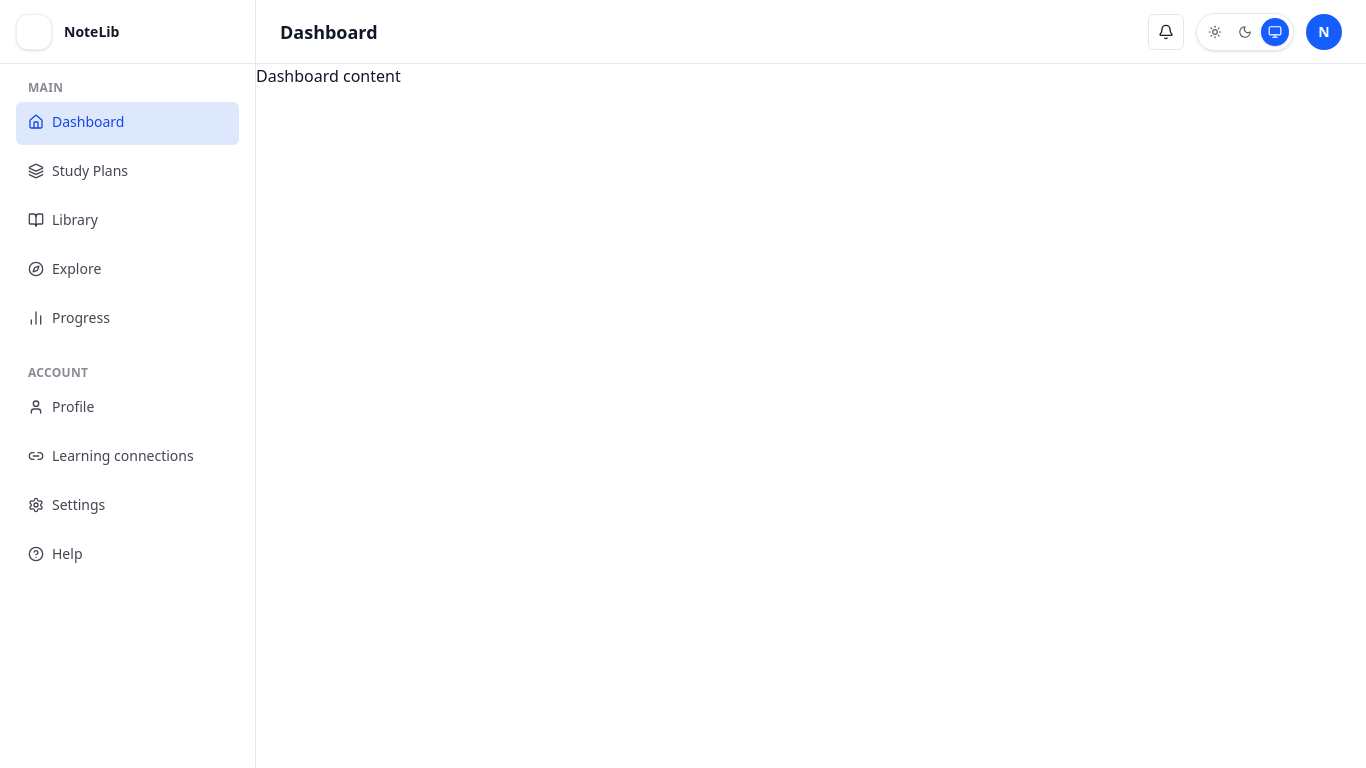
Test case: AppShell › shows My Profile and Settings in the avatar dropdown
Step 1. Click the button named "Open user menu" → point(1324, 32), box x1=1306 y1=14 x2=1342 y2=50
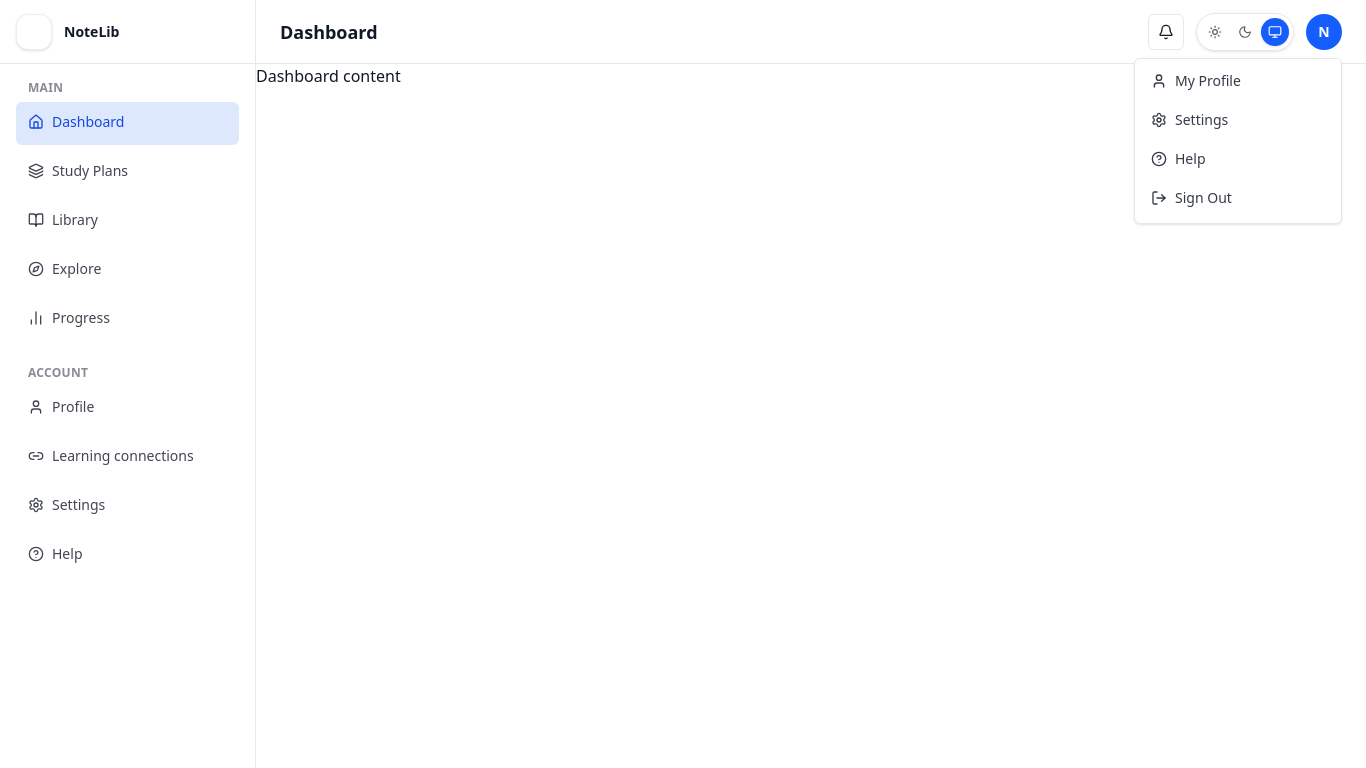
Expected: the link "Profile" is shown, x1=28 y1=397 x2=94 y2=416
Expected: the link "My Profile" is shown, x1=1151 y1=70 x2=1241 y2=90
